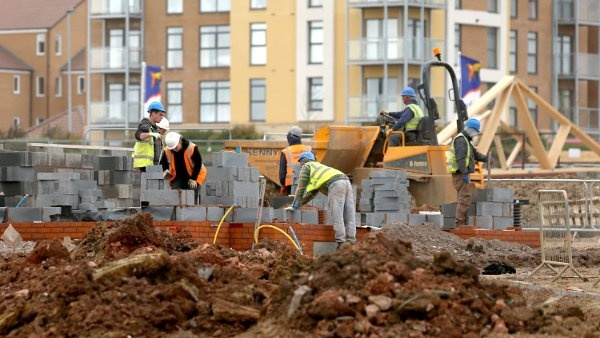blue: (464, 117, 481, 137), (147, 101, 163, 121), (298, 150, 315, 167), (400, 85, 415, 103)
white: (165, 131, 182, 151), (155, 116, 168, 133)
